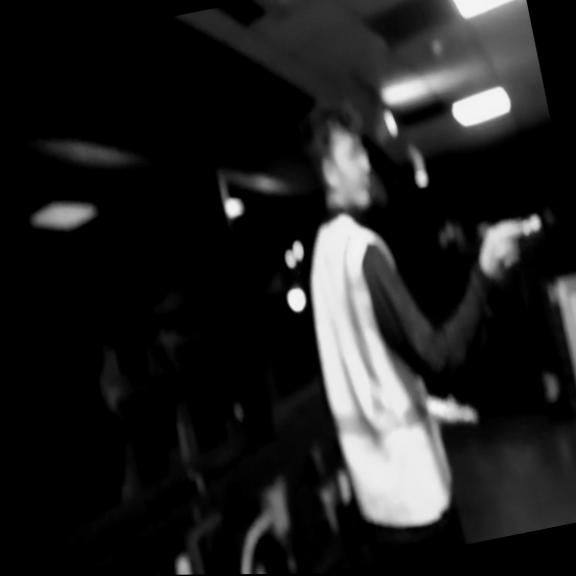safety_vest: (293, 201, 460, 539)
